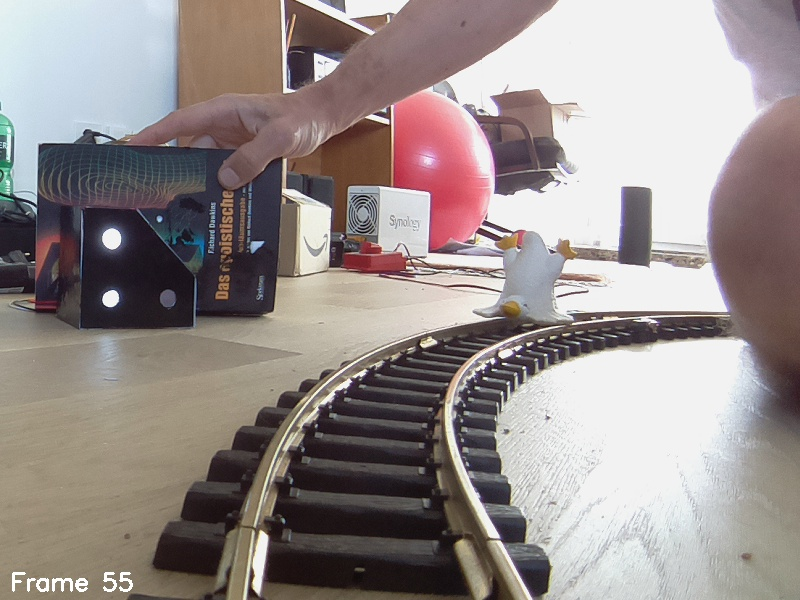Ente: (474, 228, 578, 336)
Fahrt: (59, 204, 195, 332)
